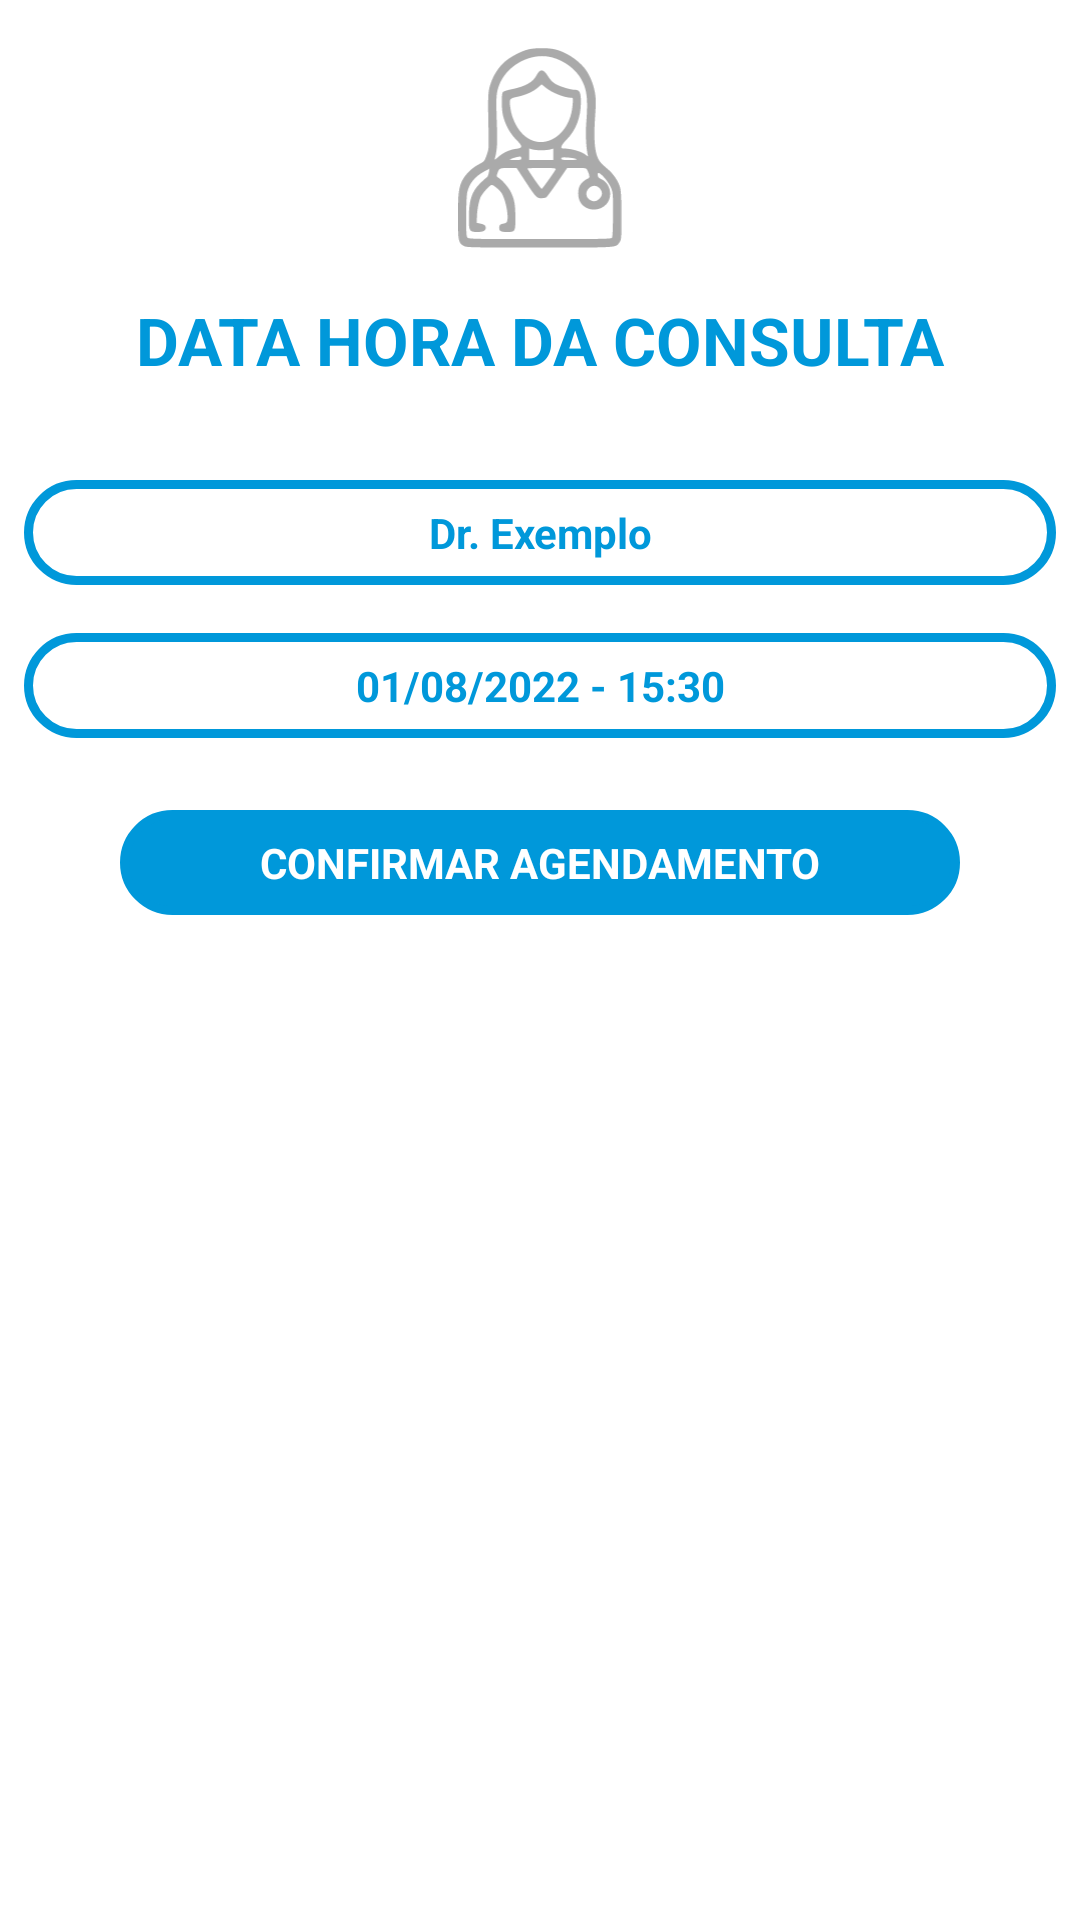

Named icons in this screenshot (1080px×1920px) and their centers, [x,y]:
medico: [540,148]
